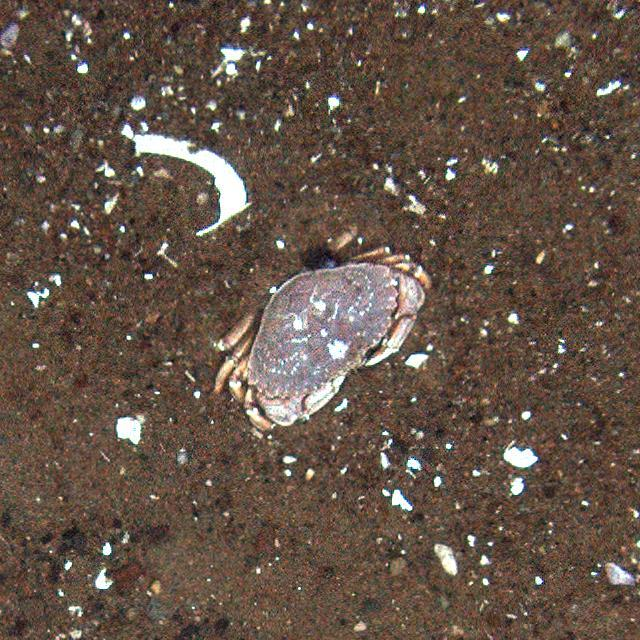crab: (196, 229, 426, 430)
